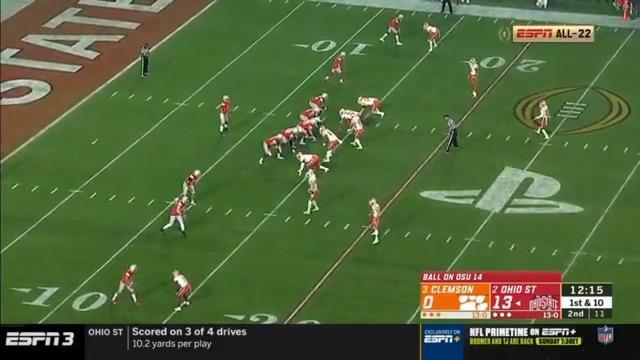defense: (170, 269, 193, 313), (344, 108, 366, 151), (365, 197, 383, 247), (531, 98, 551, 142), (302, 169, 320, 217), (297, 151, 331, 176), (322, 126, 342, 164), (355, 94, 385, 119), (468, 58, 483, 103), (339, 107, 366, 131), (422, 21, 440, 55)
oline: (260, 132, 288, 167), (279, 125, 302, 155), (295, 118, 318, 145), (308, 92, 329, 113), (300, 107, 324, 124)
qb: (216, 94, 233, 136)
ref: (444, 113, 462, 155), (138, 41, 153, 80), (439, 0, 456, 16)
skill: (109, 263, 140, 306), (162, 194, 191, 239), (379, 12, 406, 48), (323, 49, 348, 87), (182, 169, 205, 207)
